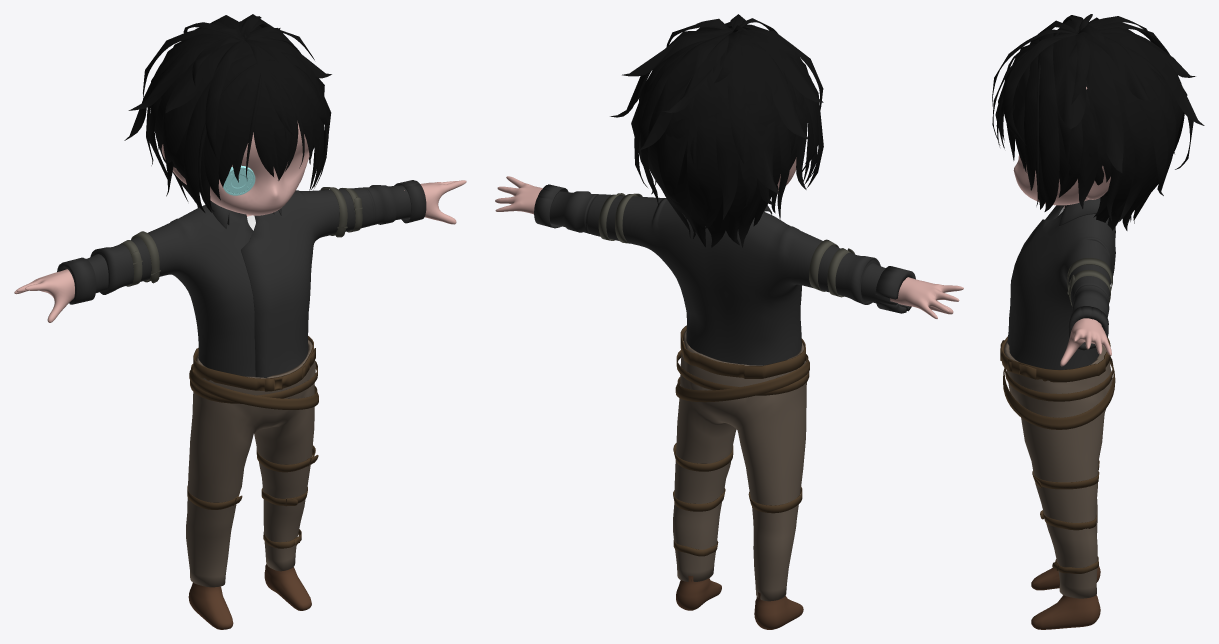
The model's file is Male _re.fbx.
The picture shows the model from 3 angles, left to right: view 1: azimuth 30°, elevation 25°; view 2: azimuth 150°, elevation 25°; view 3: azimuth 270°, elevation 25°; orthographic projection. The views are drawn at different scales.
Parts seen in each view (by area): view 1: model; view 2: model; view 3: model.
Part boxes in pixels (left/top/right/bottom): model: left=14, top=14, right=466, bottom=629; model: left=495, top=14, right=963, bottom=629; model: left=992, top=14, right=1204, bottom=629.
Bounding box in the file's own units: 40.86 × 50.84 × 16.69.
